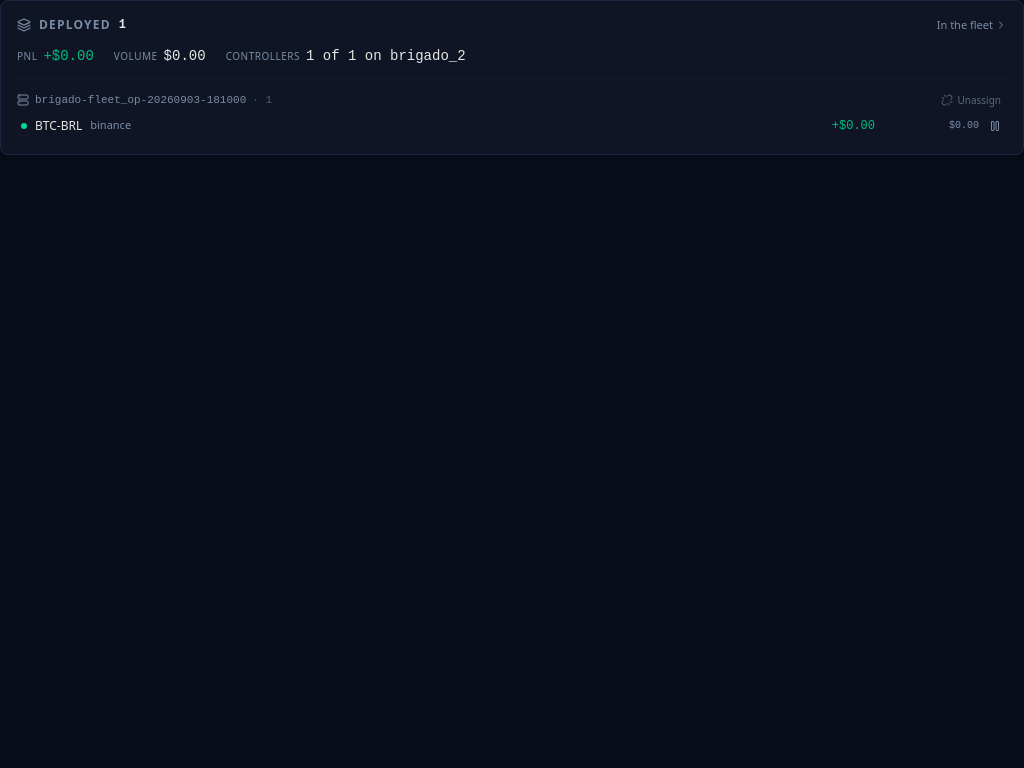
handing a bot back › does nothing when the question is cancelled
Click the button "Unassign" at (971, 100), box [935, 90, 1007, 110]
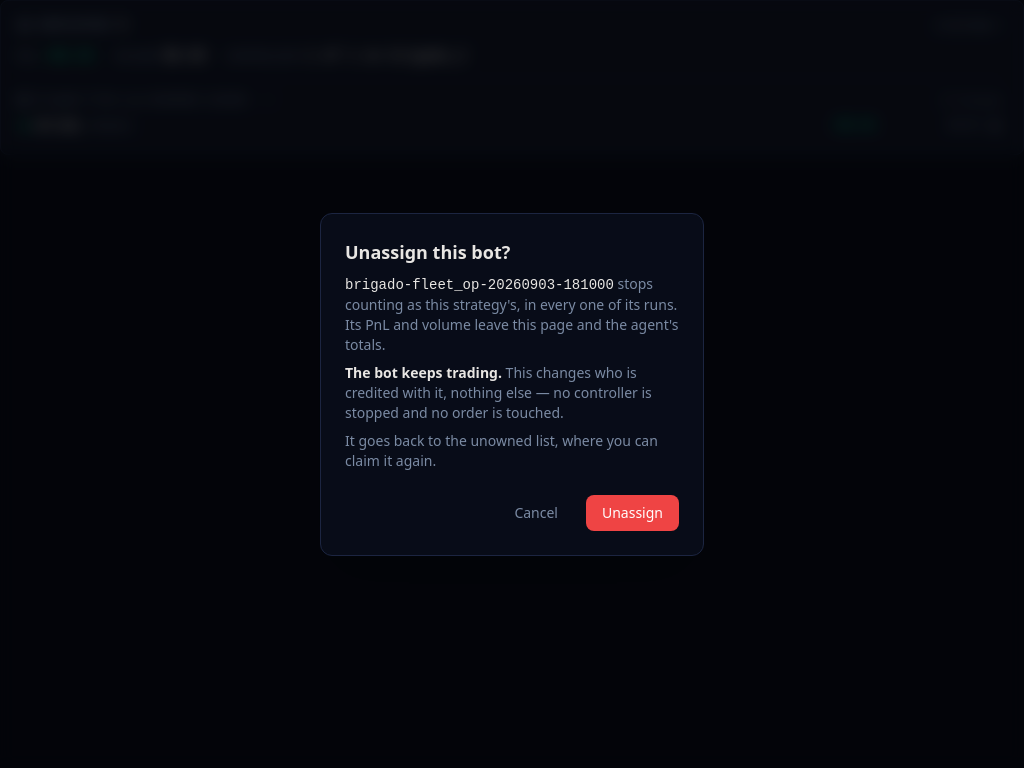
Click the button "Cancel" at (536, 512), box [498, 494, 574, 530]
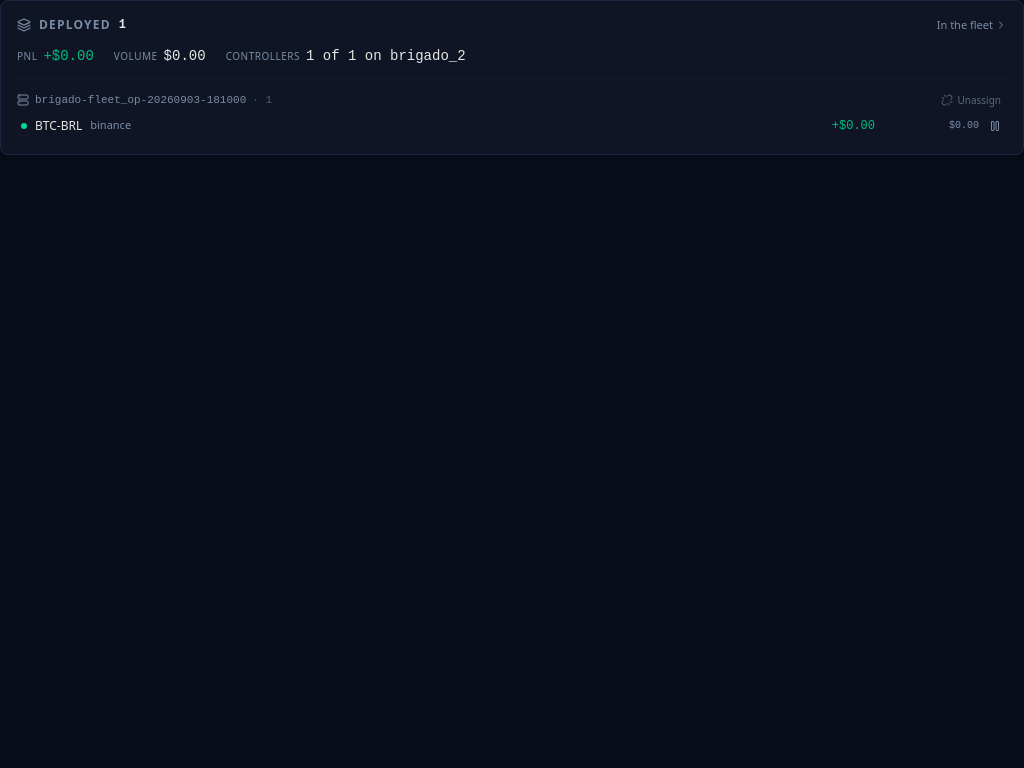
Check: the text "Unassign this bot?" is gone
